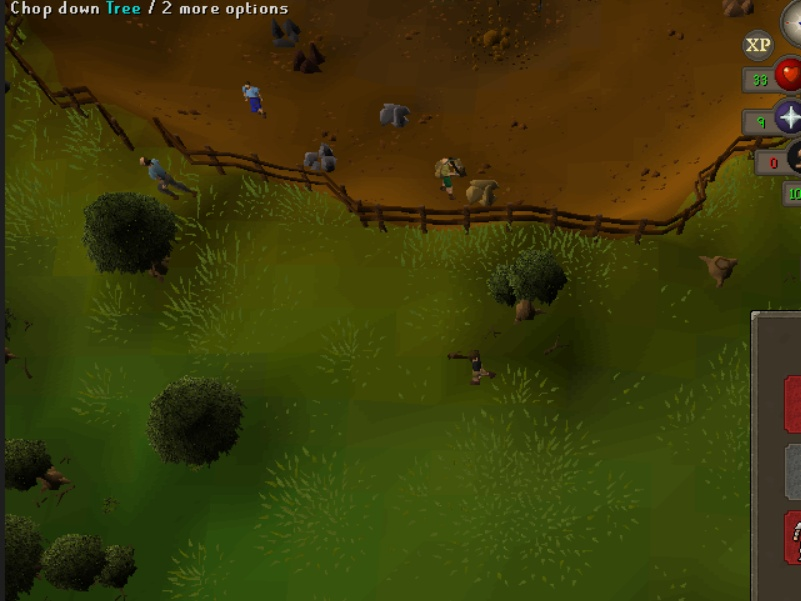clay: (465, 173, 508, 206)
copper: (715, 1, 759, 18)
iron: (286, 42, 329, 75)
tin: (299, 139, 342, 172), (373, 98, 416, 131)
